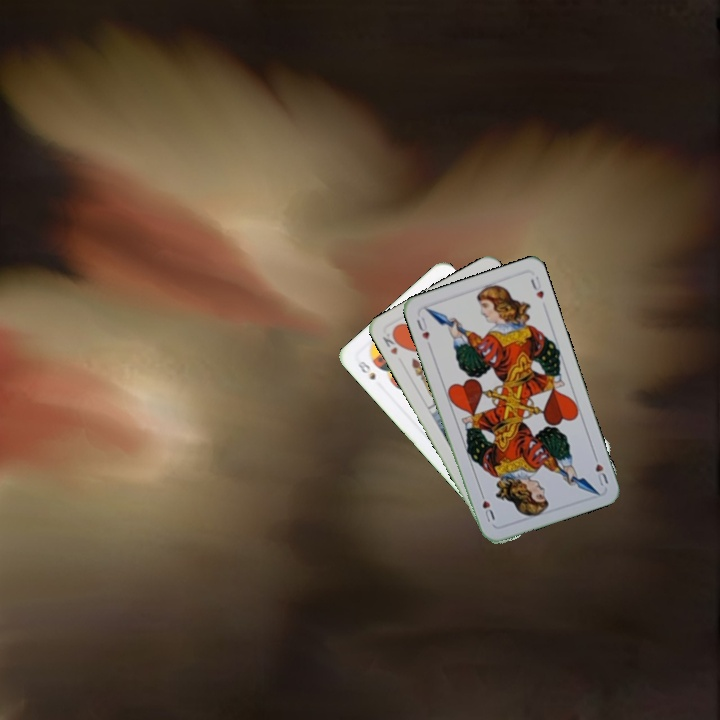HK: (378, 328, 404, 358)
HU: (589, 449, 611, 489), (413, 313, 432, 342)
S8: (353, 357, 378, 383)
